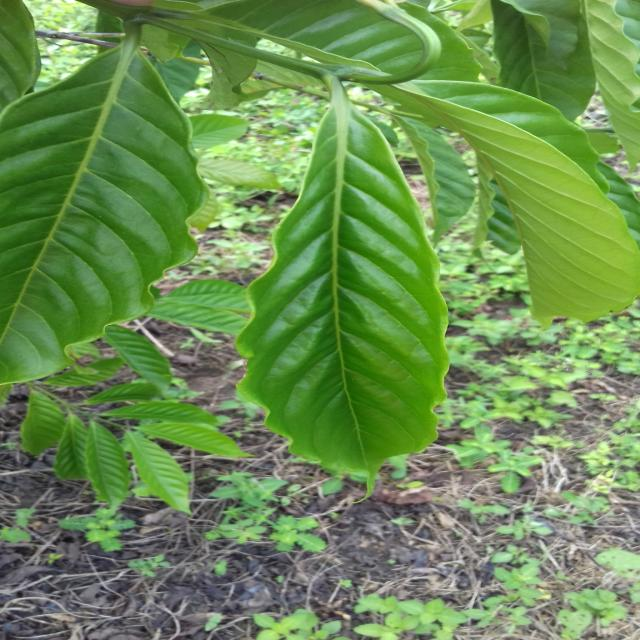Sanas: (234, 74, 449, 488)
